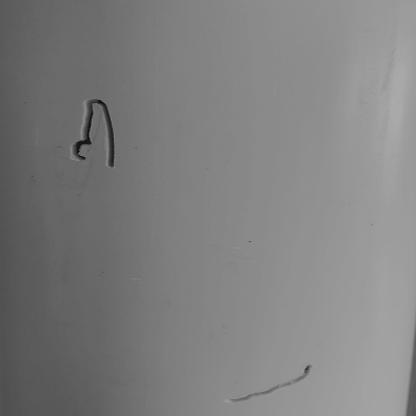fengxi: (66, 97, 116, 170), (232, 361, 311, 405)
